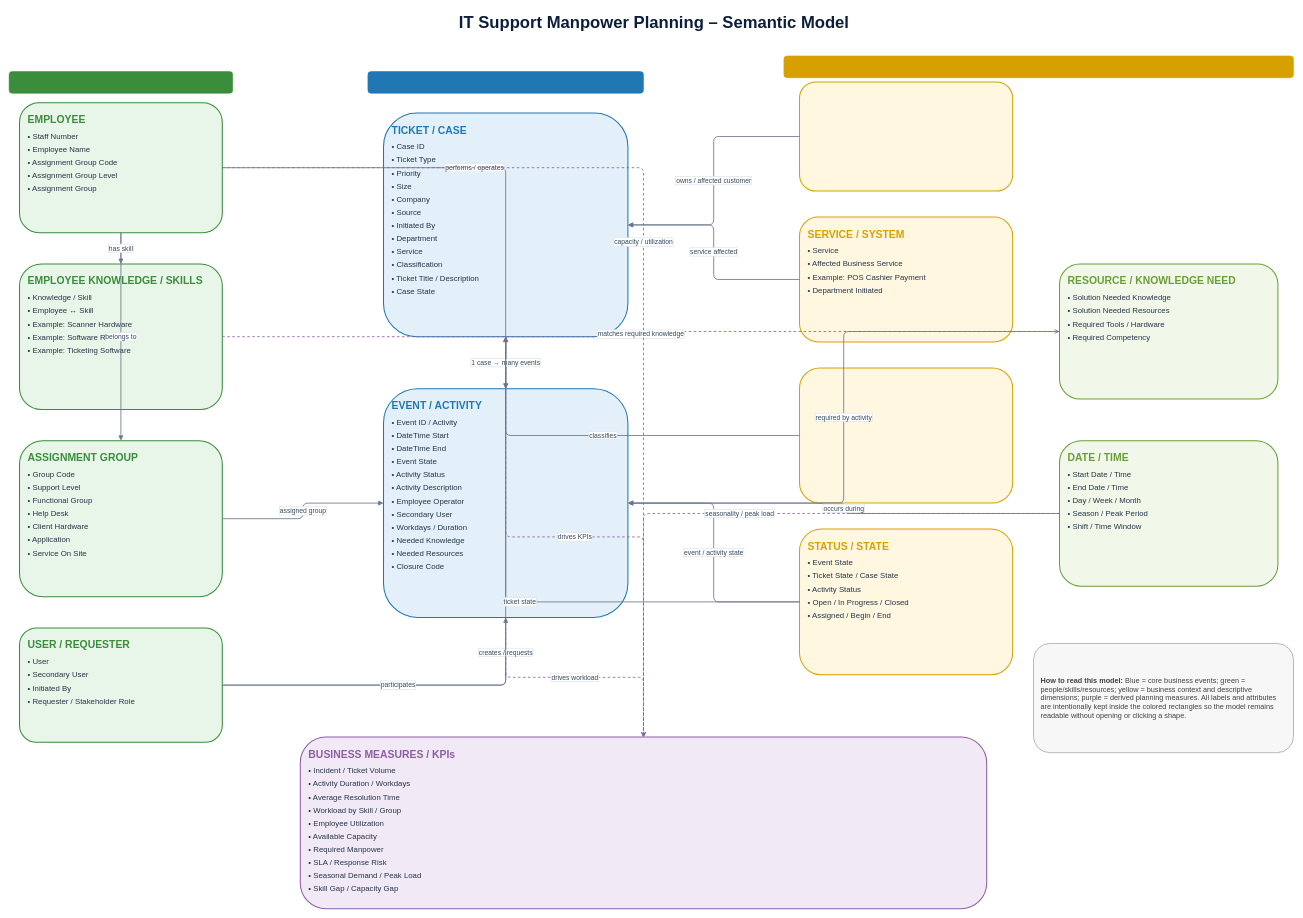
This 1303x918 diagram has some shape labels left out. Here are the shapes that lost their labels. From the top down, the box of each, then its label:
(9, 71, 233, 93): PEOPLE & ORGANIZATION
(367, 71, 644, 93): CORE BUSINESS EVENTS
(783, 55, 1294, 78): BUSINESS CONTEXT & PLANNING DIMENSIONS
(799, 81, 1013, 191): COMPANY / CUSTOMER • Company ID • Company Name • Customer / Business Context
(799, 367, 1013, 503): TICKET CLASSIFICATION • Ticket Type • Classification • Priority • Size • Source
